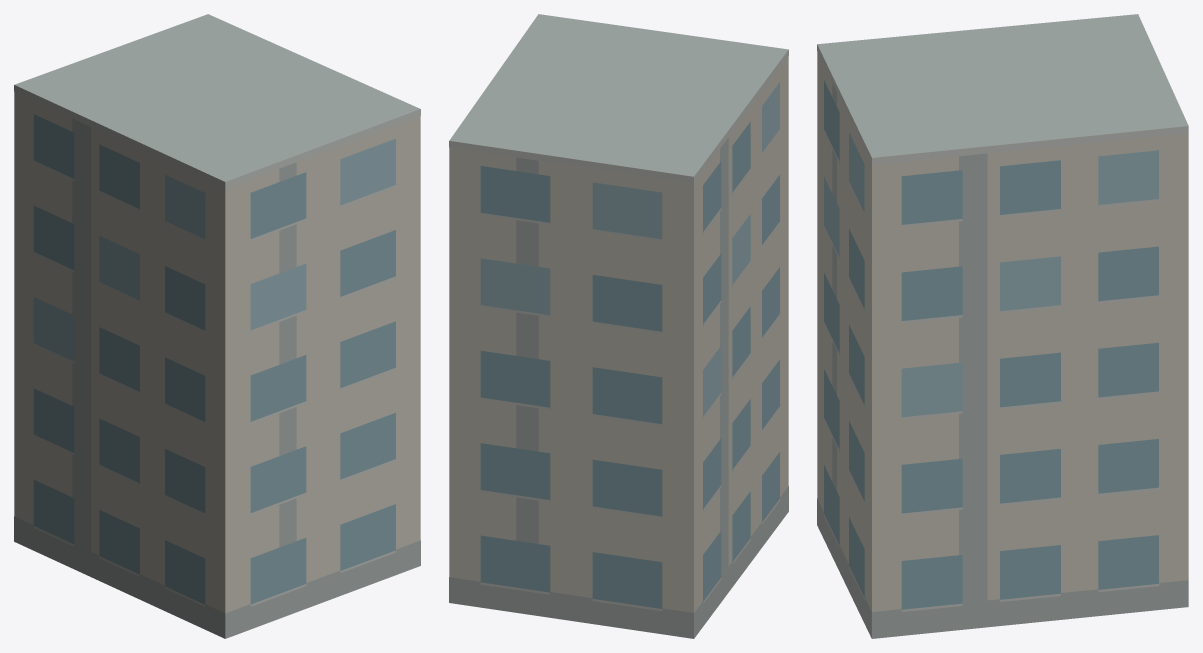
Rendered from survey-upis-33001865.glb.
3 renders of one model, left to right at view 1: azimuth 30°, elevation 25°; view 2: azimuth 150°, elevation 25°; view 3: azimuth 270°, elevation 25°, orthographic. The views are drawn at different scales.
Parts seen in each view (by area): view 1: survey-upis-33001865.tmp; view 2: survey-upis-33001865.tmp; view 3: survey-upis-33001865.tmp.
Boxes of the visible parts, <box> form: survey-upis-33001865.tmp: <box>14,14,420,638</box>; survey-upis-33001865.tmp: <box>449,14,788,638</box>; survey-upis-33001865.tmp: <box>817,14,1188,638</box>.
Bounding box in the file's own units: 10.57 × 16.45 × 11.53.
